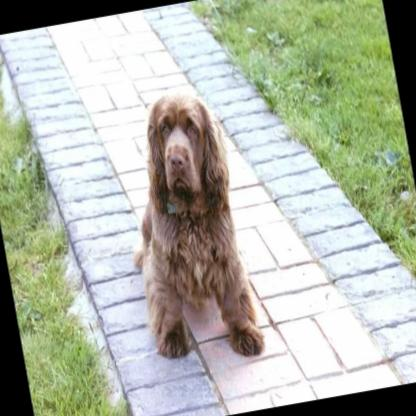Sussex_spaniel: (108, 75, 282, 378)
